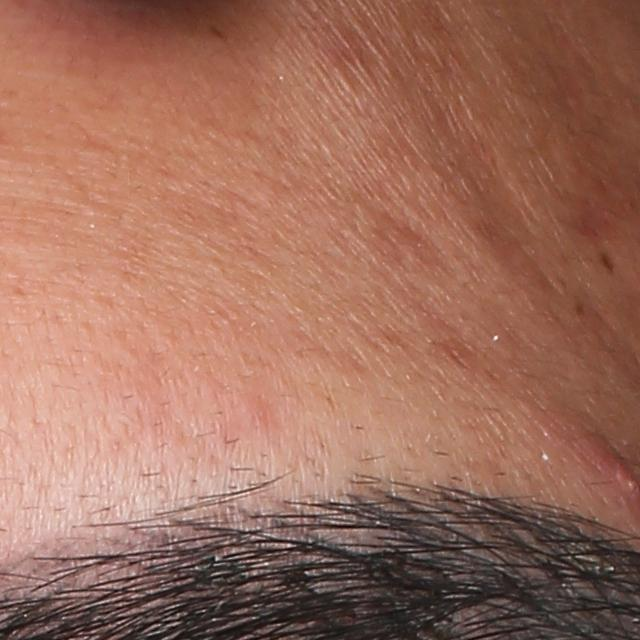nevus: (599, 251, 620, 277)
